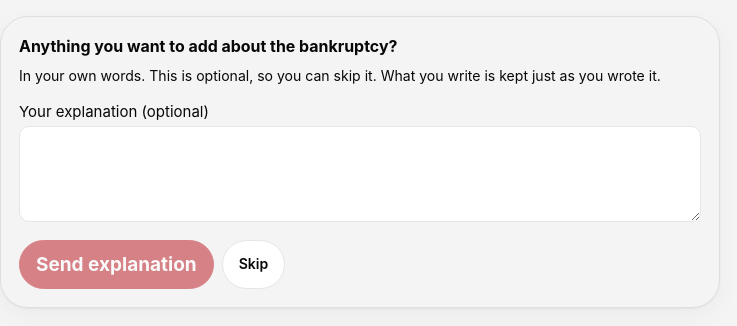
Scenario: 32.3 R5 / SQ-05 — the declarations sequence (T14, T31) › the optional bankruptcy explanation sends the words as typed with no name field, or skips — the sequence's last tap is the attestation
Later steps or results of the test are not shown.
Check: the heading "Anything you want to add about the bankruptcy?" is shown, box [19,37,397,56]
Check: the text "In your own words. This is optional, so you can skip it. What you write is kept just as you wrote it." is shown, box [19,67,661,84]
Type "Chapter 7 in 2021, discharged 2022." into the text box labelled "Your explanation (optional)".
click(360, 174); type("Chapter 7 in 2021, discharged 2022.")  # box [19,126,701,222]
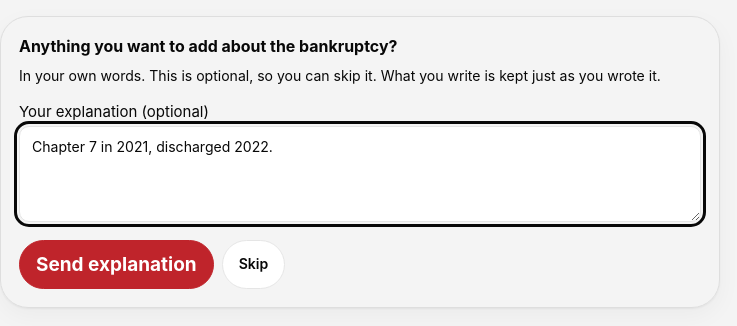
Check: the button "Send explanation" is enabled, box [19,240,214,289]
